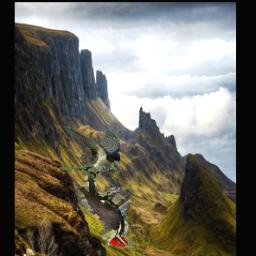Swallow: (60, 125, 120, 179)
Woodpecker: (78, 154, 137, 249)
